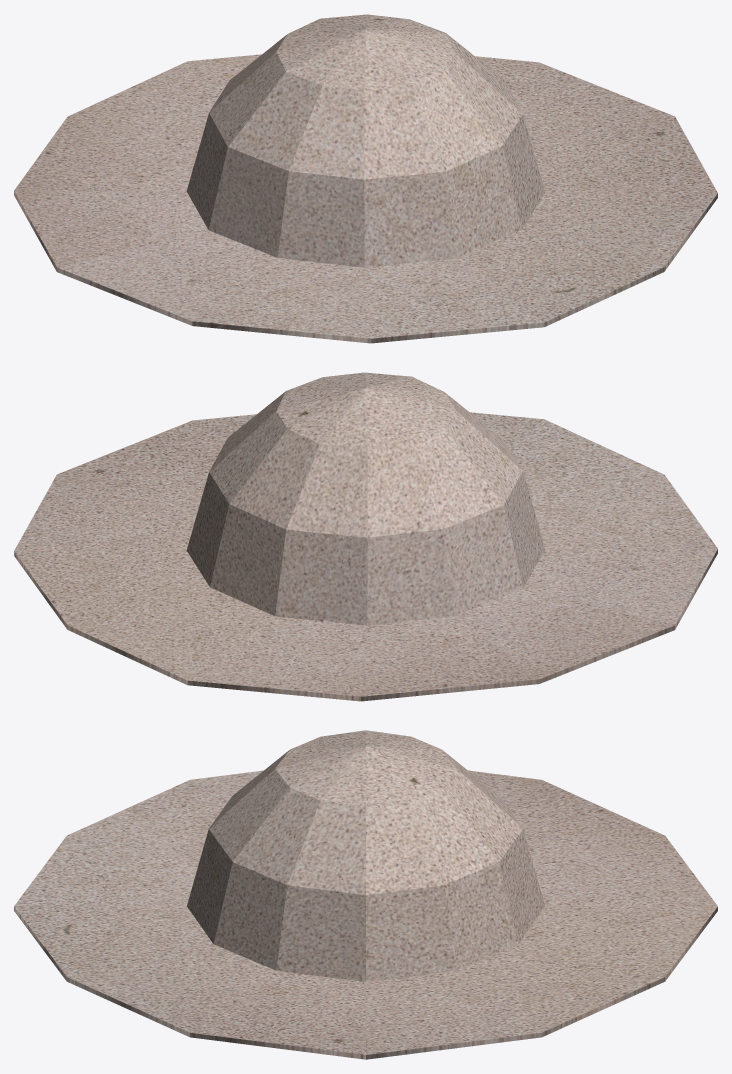
The model's file is Lamp_001.FBX.
3 renders of one model, top to bottom at view 1: azimuth 30°, elevation 25°; view 2: azimuth 150°, elevation 25°; view 3: azimuth 270°, elevation 25°, orthographic.
Parts seen in each view (by area): view 1: Sphere002; view 2: Sphere002; view 3: Sphere002.
Boxes of the visible parts, <box> form: Sphere002: <box>14,14,717,343</box>; Sphere002: <box>14,372,717,701</box>; Sphere002: <box>14,730,717,1059</box>.
Size of the model in its own units: 80 by 30.61 by 80.
Materials: 1 (1 with a texture image).
